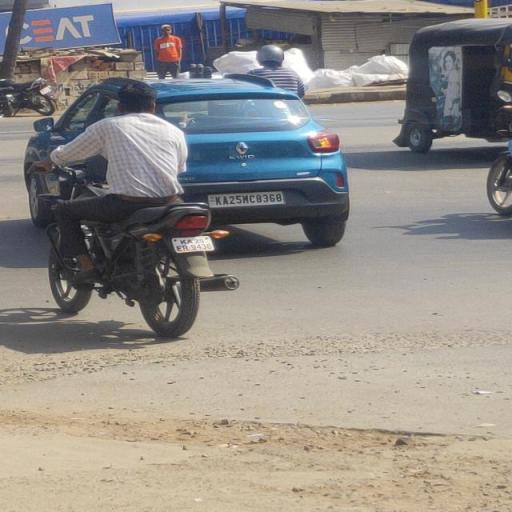bike: (18, 87, 239, 341)
numberplate: (171, 233, 214, 254)
withouthelmet: (118, 85, 157, 112)
